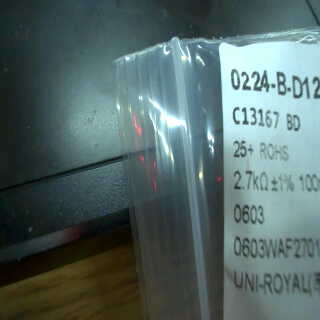2.7kR: (234, 164, 270, 197)
